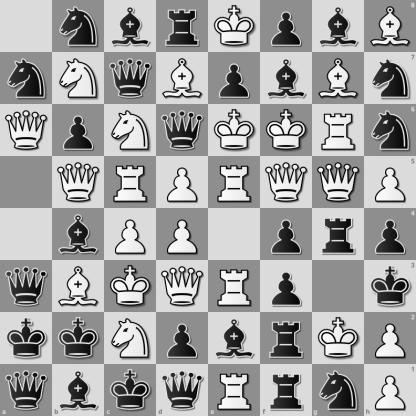B: (364, 0, 416, 52), (53, 261, 104, 312), (157, 53, 208, 104), (313, 53, 364, 104)
K: (105, 261, 156, 312), (209, 1, 260, 52), (209, 105, 260, 156), (261, 105, 312, 156), (313, 313, 364, 364)
N: (53, 53, 104, 104), (105, 105, 156, 156), (105, 313, 156, 364)
P: (364, 156, 416, 209), (364, 312, 416, 364), (364, 364, 416, 416), (105, 209, 156, 260), (157, 157, 208, 208), (157, 209, 208, 260)
Q: (1, 105, 52, 156), (53, 157, 104, 208), (157, 261, 208, 312), (261, 157, 312, 208), (313, 157, 364, 208)
R: (209, 364, 260, 416), (105, 157, 156, 208), (209, 157, 260, 208), (209, 261, 260, 312), (313, 105, 364, 156)
b: (52, 364, 104, 416), (53, 209, 104, 260), (105, 1, 156, 52), (209, 313, 260, 364), (261, 53, 312, 104), (313, 1, 364, 52)
board: (0, 0, 415, 415)
k: (104, 364, 156, 416), (364, 260, 416, 312), (1, 313, 52, 364), (53, 313, 104, 364)
n: (312, 364, 364, 416), (364, 52, 416, 104), (364, 104, 416, 156), (1, 53, 52, 104), (53, 1, 104, 52)
p: (364, 209, 416, 260), (53, 105, 104, 156), (157, 313, 208, 364), (209, 53, 260, 104), (261, 1, 312, 52), (261, 209, 312, 260), (261, 261, 312, 312)
q: (156, 364, 209, 416), (0, 364, 52, 416), (1, 261, 52, 312), (105, 53, 156, 104), (157, 105, 208, 156)
r: (260, 364, 312, 416), (157, 1, 208, 52), (261, 313, 312, 364), (313, 209, 364, 260)
